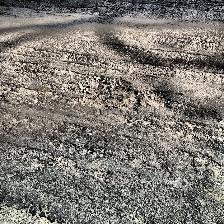pothole: (79, 78, 141, 110), (142, 90, 168, 108)
